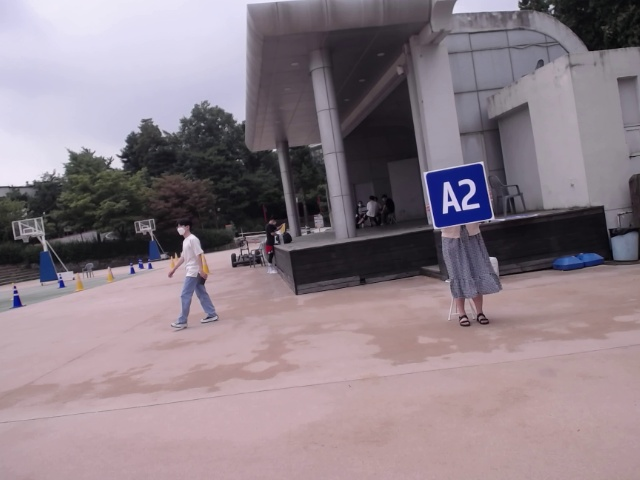delivery_a2: (425, 161, 494, 229)
